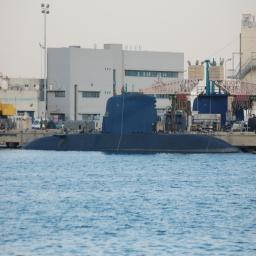submarine: (23, 92, 248, 155)
